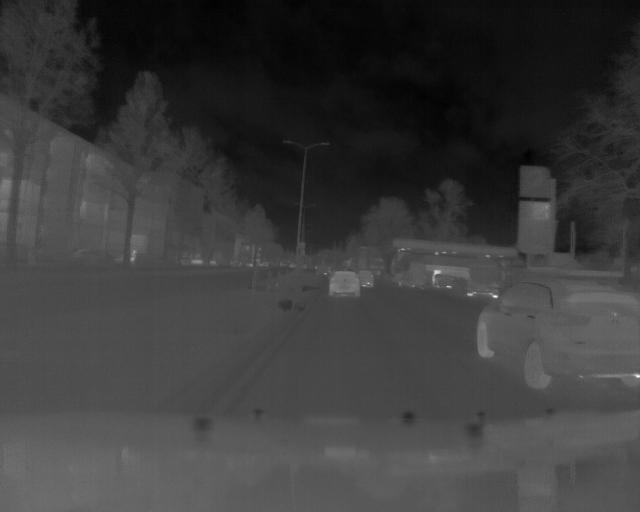car: (474, 278, 640, 395), (327, 270, 363, 297), (463, 277, 500, 300)
person: (128, 245, 138, 273)
